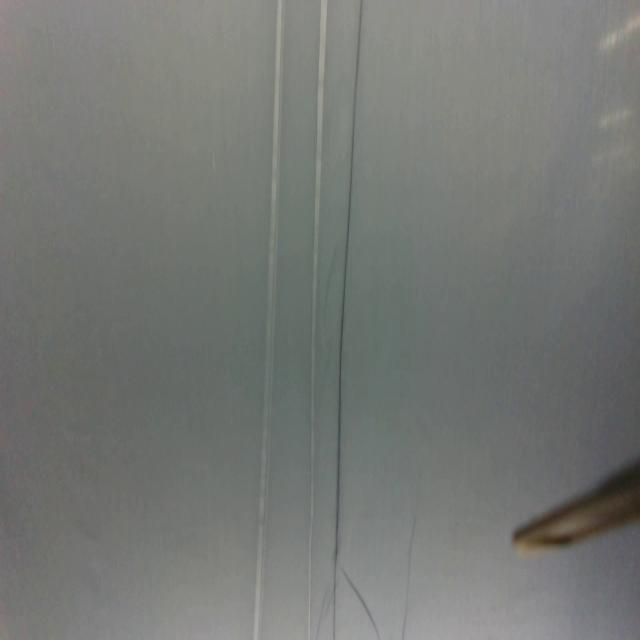crease: (332, 0, 369, 639), (252, 0, 285, 639), (307, 1, 330, 640), (342, 564, 383, 640), (400, 518, 418, 640)
